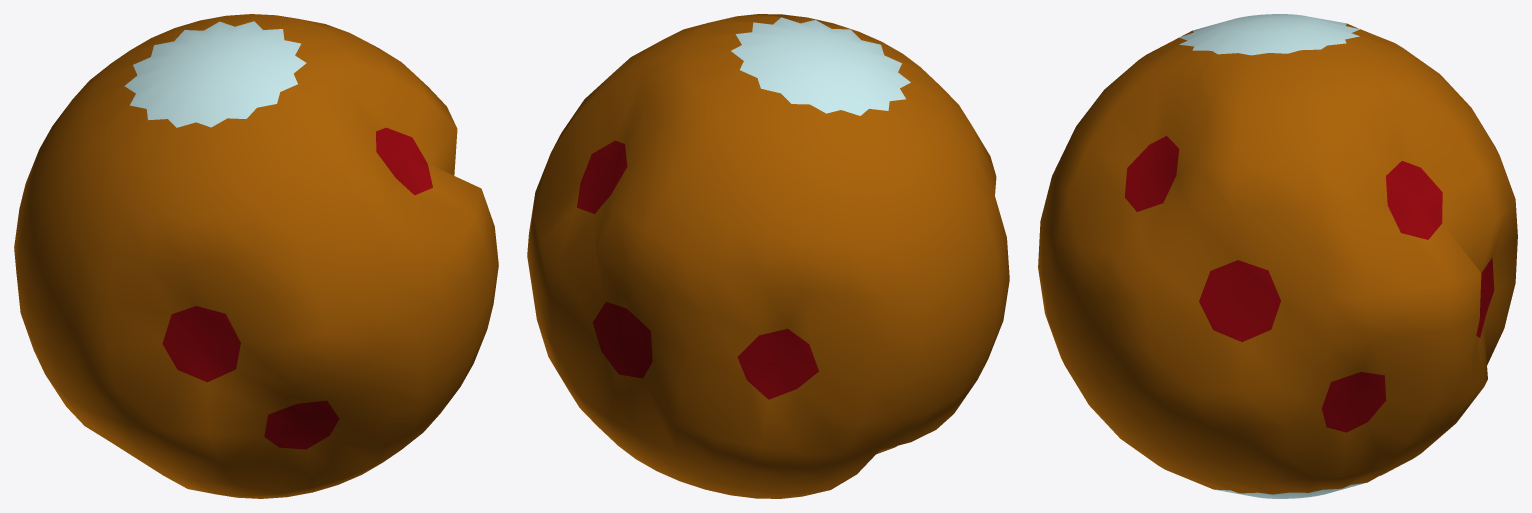
The model's file is Planet5.fbx.
The picture shows the model from 3 angles, left to right: view 1: azimuth 30°, elevation 25°; view 2: azimuth 150°, elevation 25°; view 3: azimuth 270°, elevation 25°; orthographic projection.
Visible parts, largest first — view 1: Sphere; view 2: Sphere; view 3: Sphere.
Part boxes in pixels (x1=…): Sphere: x1=14, y1=14, x2=498, y2=498; Sphere: x1=527, y1=14, x2=1009, y2=498; Sphere: x1=1038, y1=14, x2=1517, y2=498.
Bounding box in the file's own units: 405 × 407 × 403.
